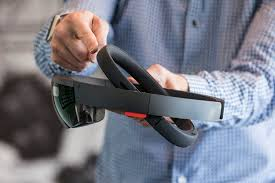hololens: (48, 47, 225, 148)
